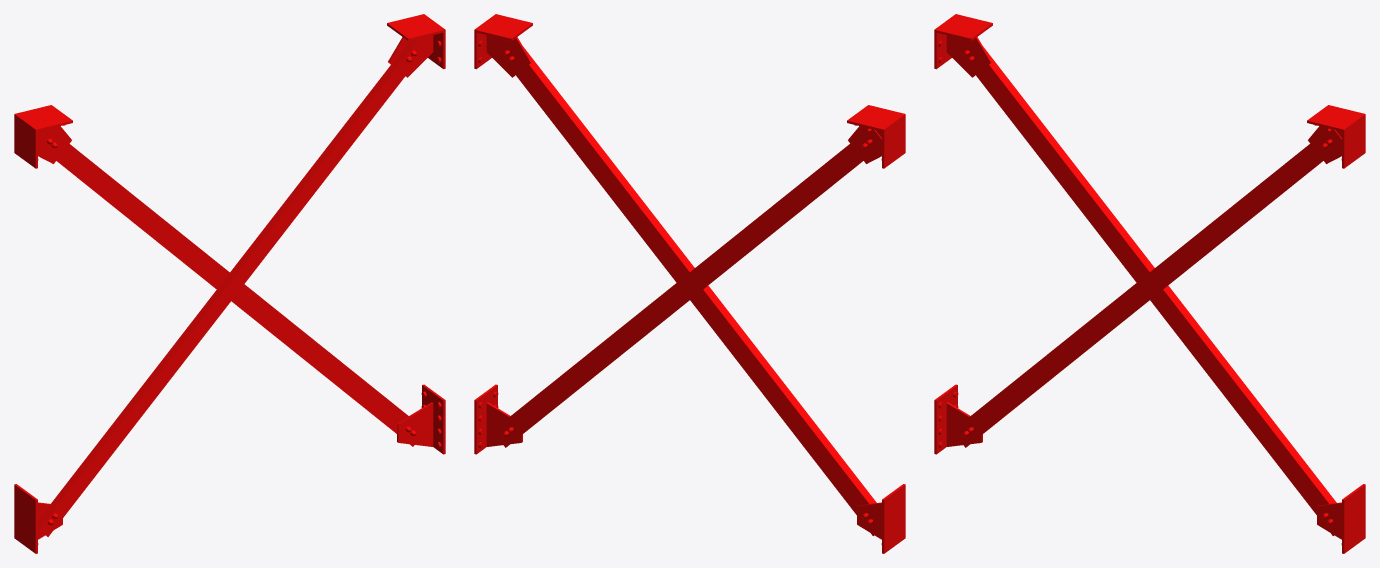
The model's file is Structure01_Support01.fbx.
The picture shows the model from 3 angles, left to right: view 1: azimuth 30°, elevation 25°; view 2: azimuth 150°, elevation 25°; view 3: azimuth 330°, elevation 25°; orthographic projection.
Visible parts, largest first — view 1: Structure01_Support01_LOD0; view 2: Structure01_Support01_LOD0; view 3: Structure01_Support01_LOD0.
Boxes of the visible parts, box(x1,y1,x2,y2) form: Structure01_Support01_LOD0: box(14, 14, 445, 553); Structure01_Support01_LOD0: box(474, 14, 905, 553); Structure01_Support01_LOD0: box(934, 14, 1365, 553).
Size of what is drawn, in the model's own units: 275 by 272 by 25.
